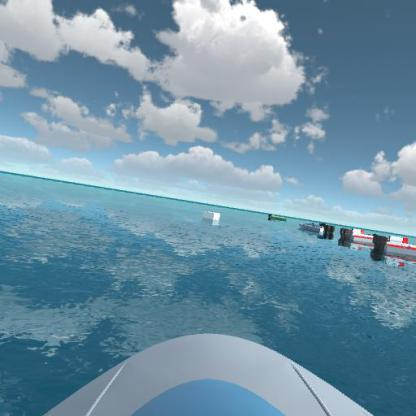usv0: (266, 210, 291, 227)
usv1: (296, 216, 335, 240)
usv3: (371, 230, 415, 270), (338, 222, 381, 251)
